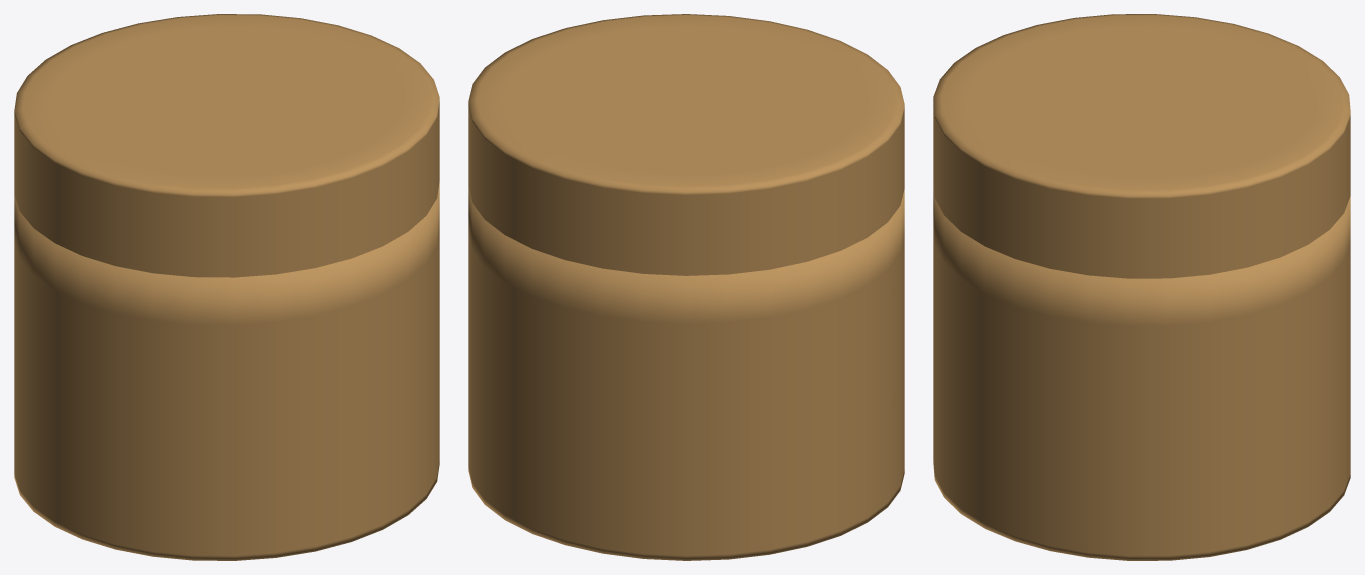
Rendered from 1-tier-caramel-none-none.glb.
3 views of the same model, side by side, from view 1: azimuth 30°, elevation 25°; view 2: azimuth 150°, elevation 25°; view 3: azimuth 270°, elevation 25° (orthographic).
Visible parts, largest first — view 1: Cylinder.019; view 2: Cylinder.019; view 3: Cylinder.019.
Part boxes in pixels (x1,y1,x2,y2): Cylinder.019: (14,14,439,560); Cylinder.019: (468,14,904,560); Cylinder.019: (933,14,1350,560).
Size of the model in its own units: 2.63 by 2.48 by 2.55.
